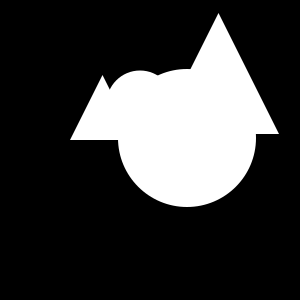rectangle: (118, 69, 256, 207), (106, 70, 174, 138)
triangle: (158, 13, 279, 134), (142, 81, 231, 170), (70, 75, 135, 140)
